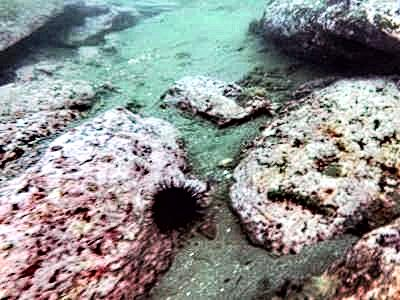urchin: (144, 179, 203, 224)
